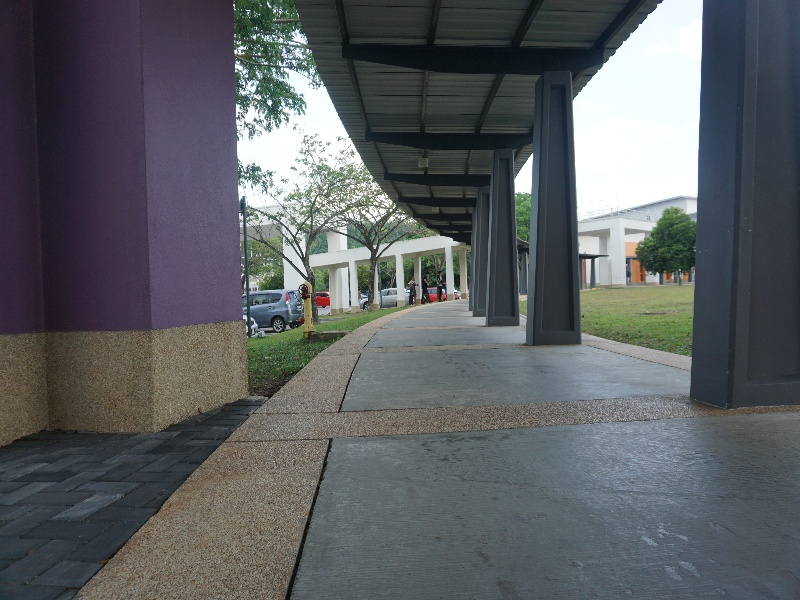Block D Pillar 7: (2, 4, 800, 527)
pillar: (12, 7, 247, 424), (700, 5, 789, 412), (525, 71, 582, 353), (479, 138, 519, 334)
